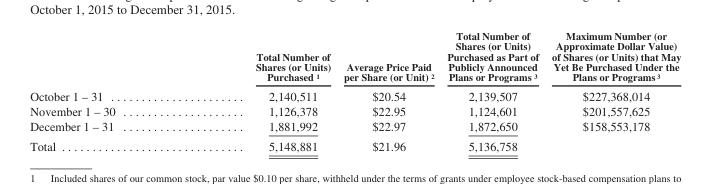table: (29, 29, 680, 152)
table column: (29, 29, 184, 152), (184, 29, 336, 152), (544, 29, 680, 152), (336, 29, 440, 152), (440, 29, 544, 152)
table column header: (29, 29, 680, 86)
table row: (29, 29, 680, 86), (29, 86, 680, 103), (29, 118, 680, 135), (29, 135, 680, 152), (29, 103, 680, 118)
